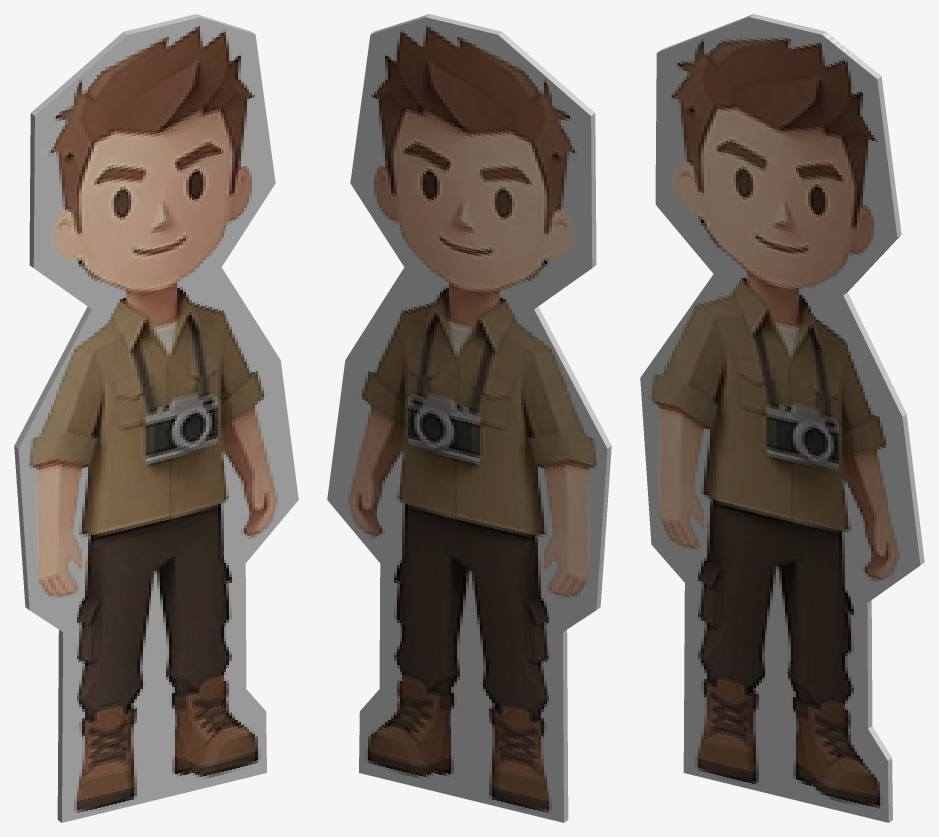
File: test_archives_chara.glb
3 renders of one model, left to right at view 1: azimuth 30°, elevation 25°; view 2: azimuth 150°, elevation 25°; view 3: azimuth 330°, elevation 25°, orthographic.
Visible parts, largest first — view 1: 平面; view 2: 平面; view 3: 平面.
Boxes of the visible parts, <box> form: 平面: <box>14,14,298,822</box>; 平面: <box>327,14,611,822</box>; 平面: <box>640,14,924,822</box>.
Bounding box in the file's own units: 0.7605 × 2 × 0.02.
Materials: 1 (1 with a texture image).
